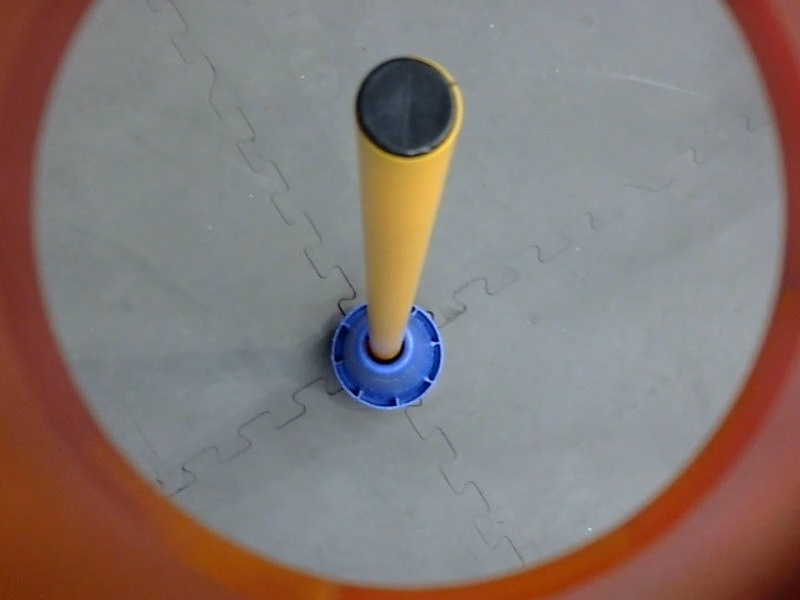tip: (348, 49, 466, 164)
